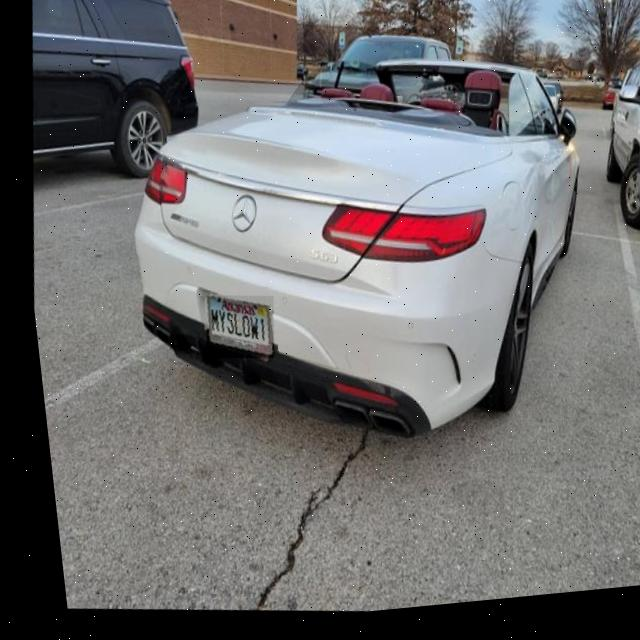LicensePlate: (199, 299, 265, 363)
